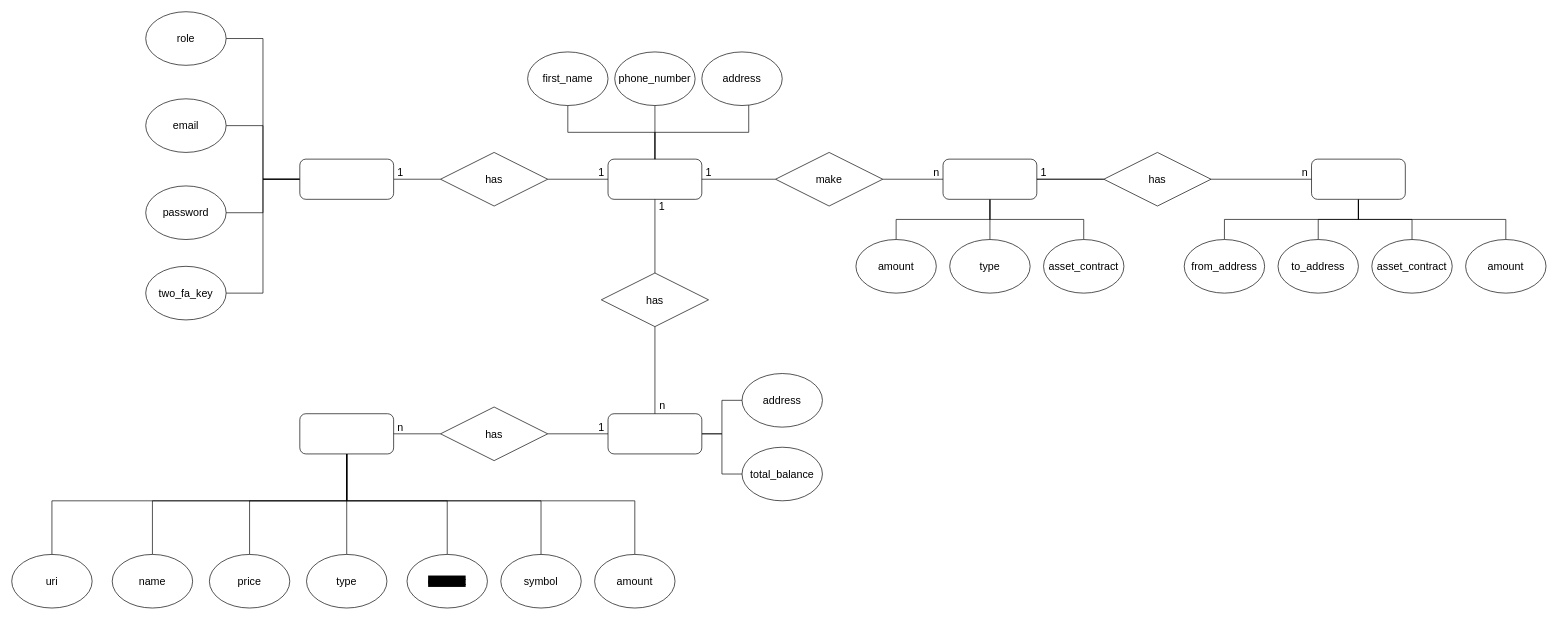
This 1558x620 diagram has some shape labels left out. The box of each missing label's shape, as (x1, y1, x2, y2) in pixels:
Asset: (299, 413, 394, 454)
Identity: (299, 158, 394, 199)
Order: (942, 158, 1037, 199)
Transaction: (1311, 158, 1405, 199)
User: (607, 158, 702, 199)
Wallet: (607, 413, 702, 454)
